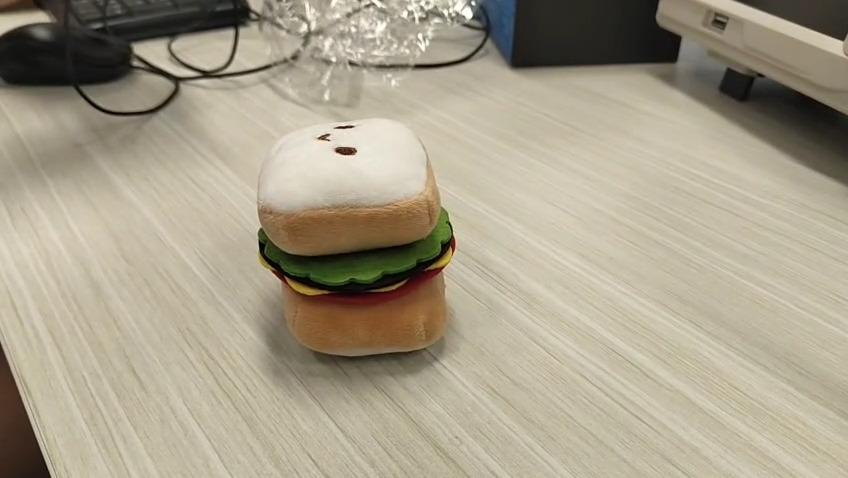objects: (257, 119, 456, 358)
